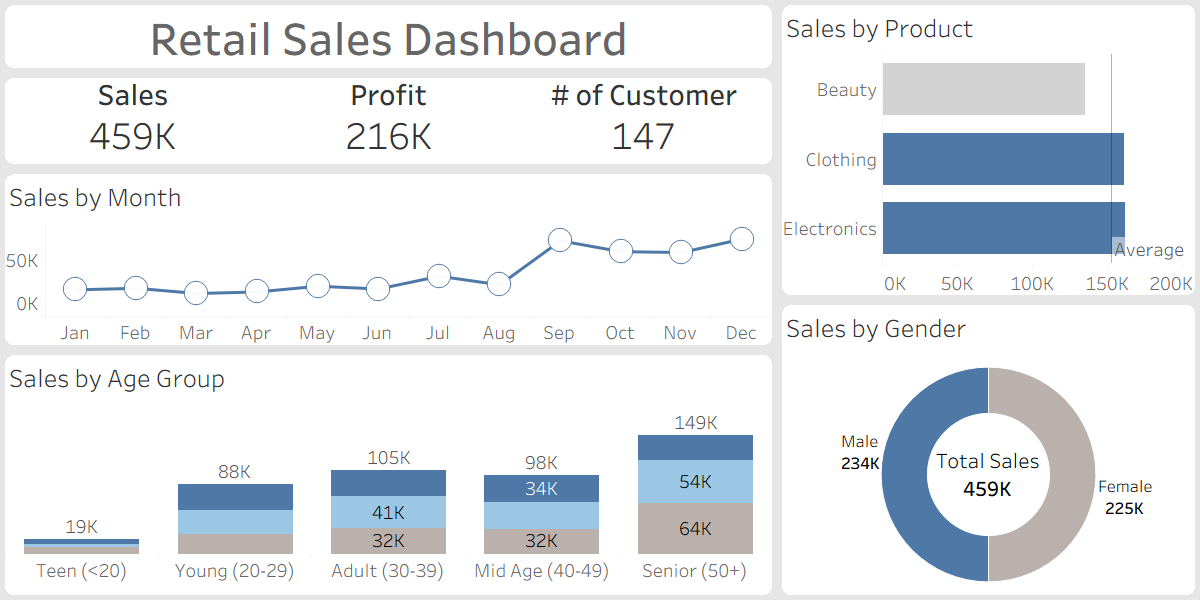

The page's visual inventory and layout, read from the dashboard file:
{"tool":"tableau","page":{"name":"Dashboard 3","canvas":[1200,600],"ordinal":0},"visuals":[{"type":"text","box":[0,0,777,73]},{"type":"worksheet","title":"Sales by Product","mark":"Automatic","rows":["category"],"cols":["total_sale"],"box":[777,0,423,300]},{"type":"worksheet","title":"KPIs","mark":"Automatic","box":[0,73,777,96]},{"type":"worksheet","title":"Sales by Month","mark":"Line","rows":["total_sale","total_sale"],"cols":["sale_date"],"box":[0,169,777,181]},{"type":"worksheet","title":"Sales by Gender","mark":"Pie","cols":["Calculation_1514864524193795","Calculation_1514864524193795"],"box":[777,300,423,300]},{"type":"worksheet","title":"Sales by Age Group","mark":"Automatic","rows":["total_sale"],"cols":["Calculation_1514864527482884"],"box":[0,350,777,250]}]}

Visuals, with their boxes in screenshot pixels (x1, y1, x2, y2), scaled from the page's 1200x600 canvas onto the 1200x600 screenshot:
text: <bbox>0, 0, 777, 73</bbox>
"Sales by Product" worksheet: <bbox>777, 0, 1199, 300</bbox>
"KPIs" worksheet: <bbox>0, 73, 777, 169</bbox>
"Sales by Month" worksheet (Line marks): <bbox>0, 169, 777, 350</bbox>
"Sales by Gender" worksheet (Pie marks): <bbox>777, 300, 1199, 599</bbox>
"Sales by Age Group" worksheet: <bbox>0, 350, 777, 599</bbox>
